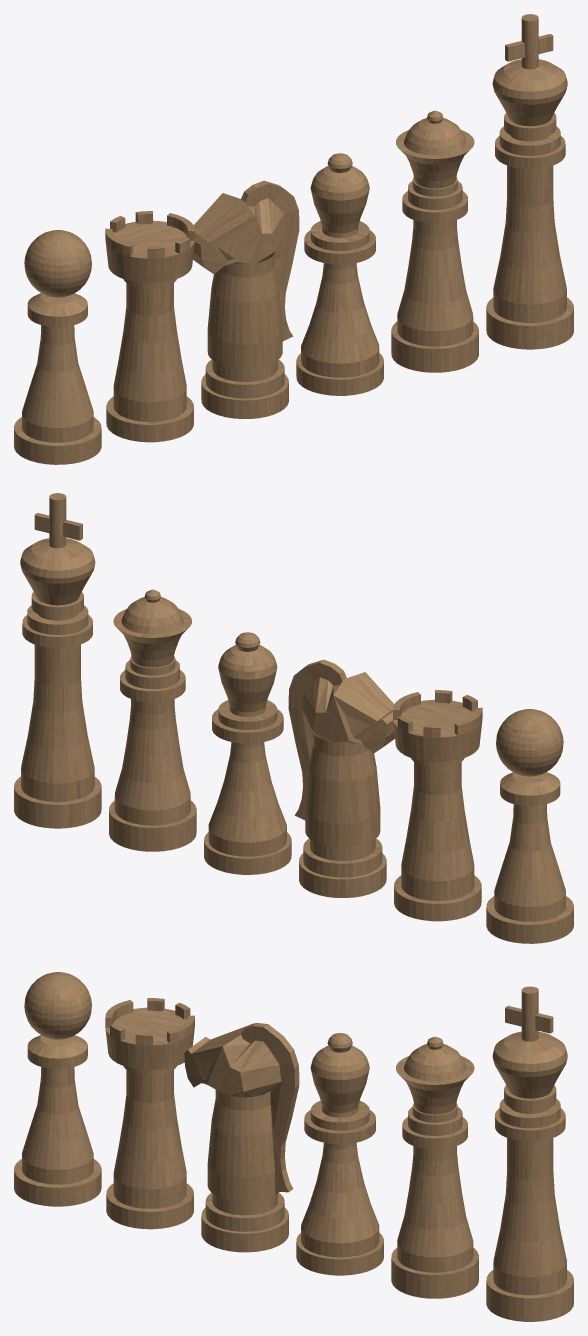
File: chess.dae
3 renders of one model, top to bottom at view 1: azimuth 30°, elevation 25°; view 2: azimuth 150°, elevation 25°; view 3: azimuth 330°, elevation 25°, orthographic.
Visible parts, largest first — view 1: w_king, w_knight, w_queen, w_rook, w_bishop, w_pawn; view 2: w_king, w_knight, w_queen, w_rook, w_bishop, w_pawn; view 3: w_king, w_knight, w_queen, w_rook, w_bishop, w_pawn.
Boxes of the visible parts, bbox=[...] form: w_king: bbox=[486, 14, 573, 349]; w_knight: bbox=[193, 180, 299, 418]; w_queen: bbox=[391, 110, 478, 372]; w_rook: bbox=[105, 211, 194, 442]; w_bishop: bbox=[296, 153, 383, 395]; w_pawn: bbox=[14, 230, 101, 464]; w_king: bbox=[14, 493, 101, 828]; w_knight: bbox=[288, 659, 394, 897]; w_queen: bbox=[109, 589, 196, 851]; w_rook: bbox=[393, 690, 482, 921]; w_bishop: bbox=[204, 632, 291, 874]; w_pawn: bbox=[486, 709, 573, 943]; w_king: bbox=[486, 986, 573, 1321]; w_knight: bbox=[184, 1023, 299, 1252]; w_queen: bbox=[391, 1036, 478, 1298]; w_rook: bbox=[105, 998, 194, 1229]; w_bishop: bbox=[296, 1033, 383, 1275]; w_pawn: bbox=[14, 972, 101, 1206].
Size of the model in its own units: 5.77 by 3.15 by 0.8185.
Materials: 1 (1 with a texture image).
